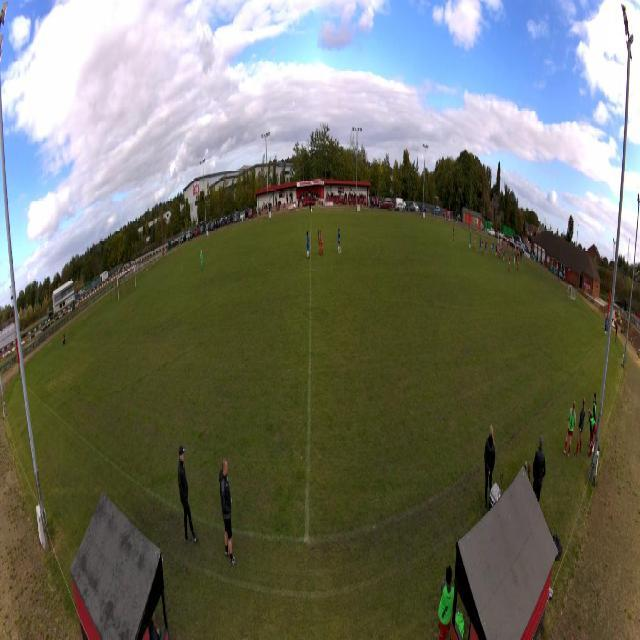ball: (605, 330, 607, 335)
player: (337, 227, 342, 254), (306, 230, 310, 259), (320, 229, 324, 257), (200, 247, 204, 273), (604, 315, 608, 337), (318, 229, 321, 256), (484, 239, 488, 255), (479, 236, 482, 255), (452, 225, 455, 243), (508, 256, 511, 273), (473, 234, 476, 251), (469, 232, 472, 249), (516, 257, 519, 273), (503, 246, 506, 261), (495, 244, 498, 258), (503, 247, 505, 264), (482, 237, 484, 254), (499, 245, 501, 261), (497, 244, 499, 260), (492, 240, 494, 256), (491, 240, 493, 255), (499, 244, 501, 256), (497, 242, 499, 248)
